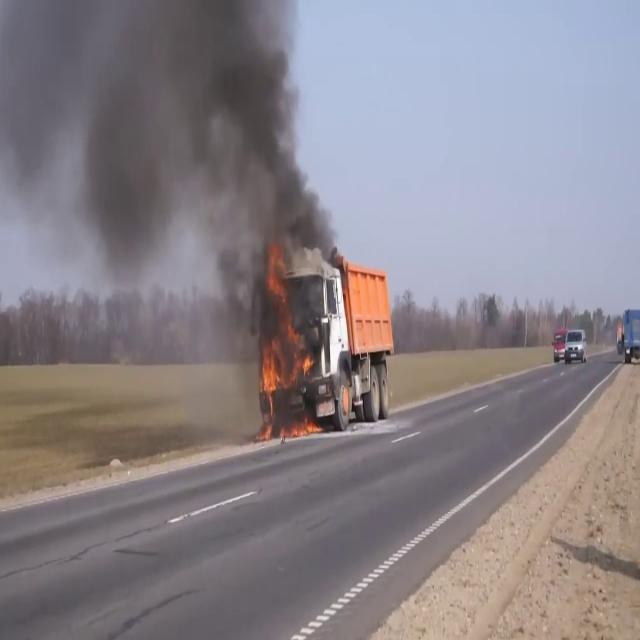Fire: (255, 271, 313, 428), (256, 342, 284, 424)
Smoke: (0, 0, 340, 322)
